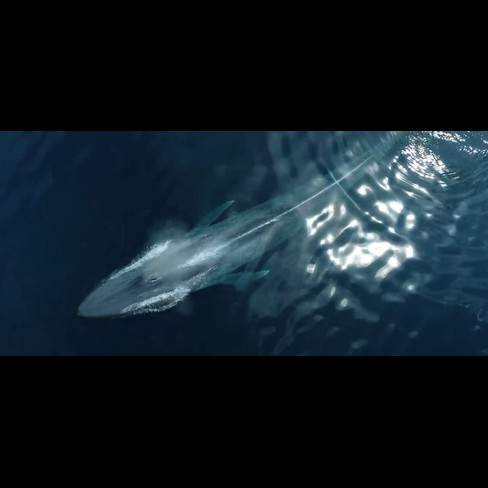bluewhale: (74, 132, 416, 330)
